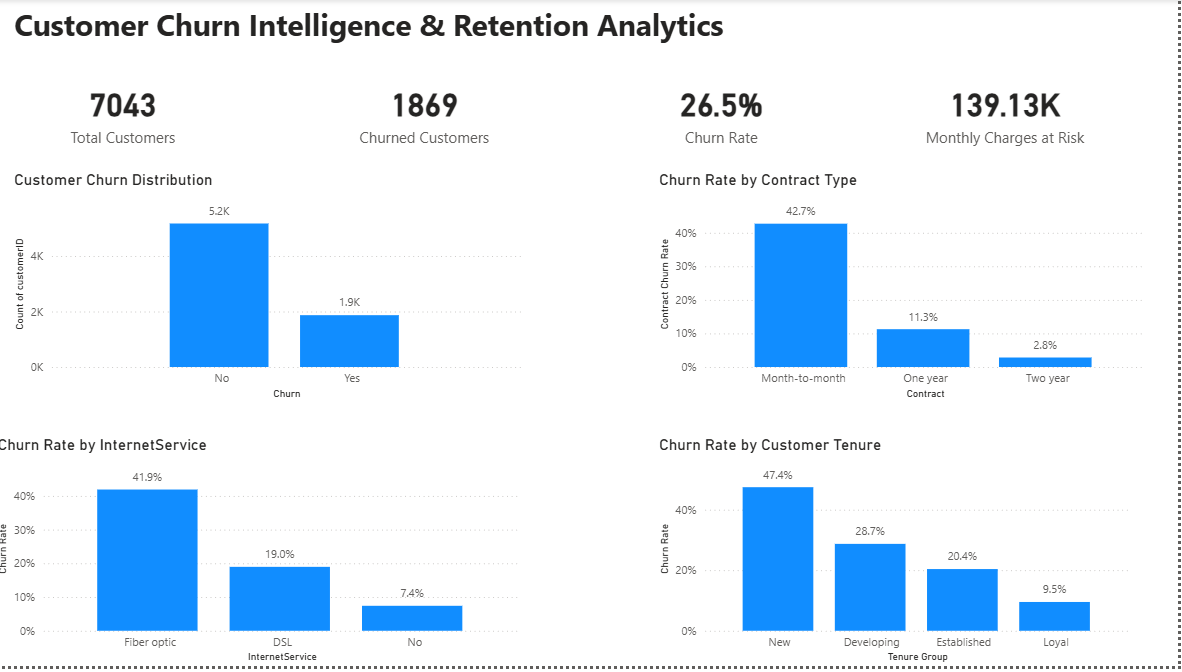

Layout of this report page (visuals, bound fields, positions):
{"tool":"powerbi","page":{"name":"Executive Overview","canvas":[1280,720],"ordinal":0},"visuals":[{"type":"card","fields":{"Values":["Telco-Customer-Churn.Total Customers"]},"box":[0,60.5,279.7,124.7],"z":0},{"type":"card","fields":{"Values":["Telco-Customer-Churn.Churned Customers"]},"box":[325,60.5,279.7,124.7],"z":1},{"type":"card","fields":{"Values":["Telco-Customer-Churn.Churn Rate"]},"box":[646.3,60.5,279.7,124.7],"z":2},{"type":"card","fields":{"Values":["Telco-Customer-Churn.Monthly Charges at Risk"]},"box":[952.4,60.5,279.7,124.7],"z":3},{"type":"clusteredColumnChart","title":"Customer Churn Distribution","fields":{"Category":["Telco-Customer-Churn.Churn"],"Y":["CountNonNull(Telco-Customer-Churn.customerID)"]},"box":[17,185.2,557.5,251.3],"z":4},{"type":"clusteredColumnChart","title":"Churn Rate by Contract Type","fields":{"Category":["Telco-Customer-Churn.Contract"],"Y":["Telco-Customer-Churn.Contract Churn Rate"]},"box":[714.3,185.2,534.8,251.3],"z":5},{"type":"clusteredColumnChart","title":"Churn Rate by Customer Tenure ","fields":{"Y":["Telco-Customer-Churn.Churn Rate"],"Category":["Telco-Customer-Churn.Tenure Group"]},"box":[714.3,470.6,517.8,249.5],"z":6},{"type":"clusteredColumnChart","fields":{"Category":["Telco-Customer-Churn.InternetService"],"Y":["Telco-Customer-Churn.Churn Rate"]},"box":[0,470.6,574.5,249.5],"z":7},{"type":"textbox","box":[17,0,1196.2,94.5],"z":8}]}

Visuals, with their boxes in screenshot pixels (x1, y1, x2, y2), scaled from the page's 1280x720 canvas onto the 1182x672 screenshot:
card - Telco-Customer-Churn.Total Customers: {"left": 0, "top": 56, "right": 258, "bottom": 173}
card - Telco-Customer-Churn.Churned Customers: {"left": 300, "top": 56, "right": 558, "bottom": 173}
card - Telco-Customer-Churn.Churn Rate: {"left": 597, "top": 56, "right": 855, "bottom": 173}
card - Telco-Customer-Churn.Monthly Charges at Risk: {"left": 879, "top": 56, "right": 1138, "bottom": 173}
"Customer Churn Distribution" clusteredColumnChart: {"left": 16, "top": 173, "right": 531, "bottom": 407}
"Churn Rate by Contract Type" clusteredColumnChart: {"left": 660, "top": 173, "right": 1153, "bottom": 407}
"Churn Rate by Customer Tenure " clusteredColumnChart: {"left": 660, "top": 439, "right": 1138, "bottom": 671}
clusteredColumnChart - Telco-Customer-Churn.InternetService x Telco-Customer-Churn.Churn Rate: {"left": 0, "top": 439, "right": 531, "bottom": 671}
textbox: {"left": 16, "top": 0, "right": 1120, "bottom": 88}
